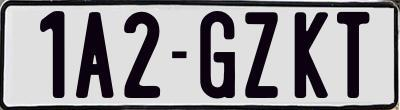1: (39, 11, 70, 103)
2: (122, 12, 164, 103)
A: (75, 9, 114, 97)
G: (200, 8, 241, 102)
K: (293, 10, 331, 102)
T: (334, 10, 372, 102)
Z: (244, 10, 282, 96)
